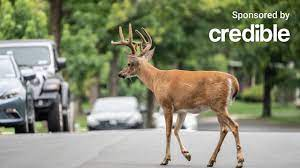deer: (110, 25, 245, 168)
